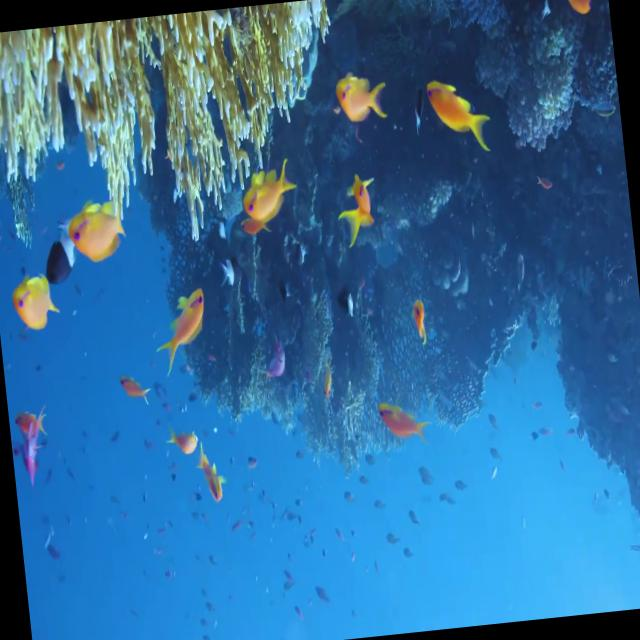fish: (53, 188, 132, 286), (144, 282, 214, 388), (423, 66, 495, 159), (332, 61, 396, 138), (329, 170, 383, 256), (234, 156, 302, 224), (9, 268, 67, 340), (374, 390, 429, 455), (34, 225, 79, 291), (152, 417, 204, 471), (195, 455, 232, 518), (8, 404, 52, 450), (116, 367, 155, 418), (403, 291, 434, 354), (11, 434, 45, 491), (214, 252, 240, 296), (559, 0, 594, 27), (204, 310, 205, 310)
